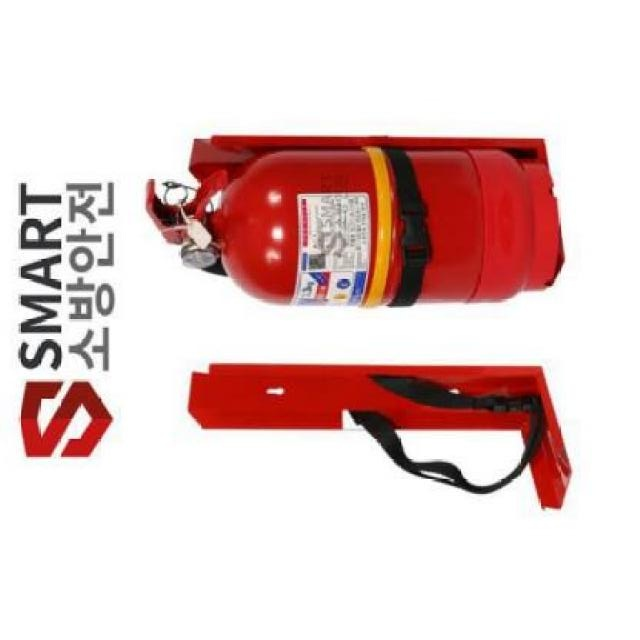fire extinguisher: (143, 147, 560, 310)
